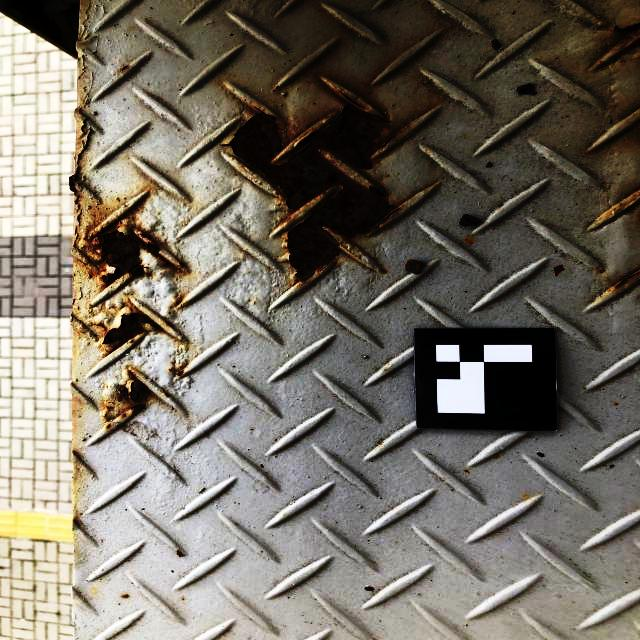Corrosion: (218, 73, 418, 287), (77, 216, 186, 287), (88, 297, 179, 358), (101, 366, 156, 430), (597, 18, 640, 58), (608, 183, 640, 222), (612, 265, 640, 290), (167, 367, 188, 378), (172, 297, 184, 310), (120, 64, 130, 73), (163, 392, 169, 398), (382, 270, 388, 274), (599, 270, 604, 274)
